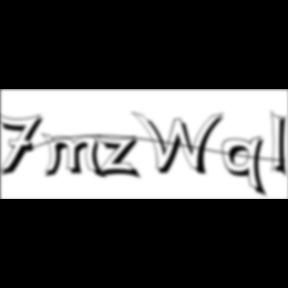7: (0, 111, 50, 179)
W: (132, 110, 230, 178)
m: (41, 132, 109, 181)
q: (222, 135, 272, 200)
z: (96, 134, 146, 182)
